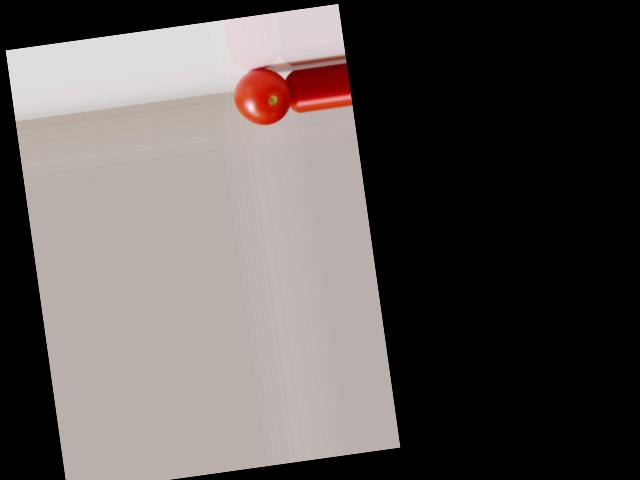tomato: (230, 65, 294, 128)
